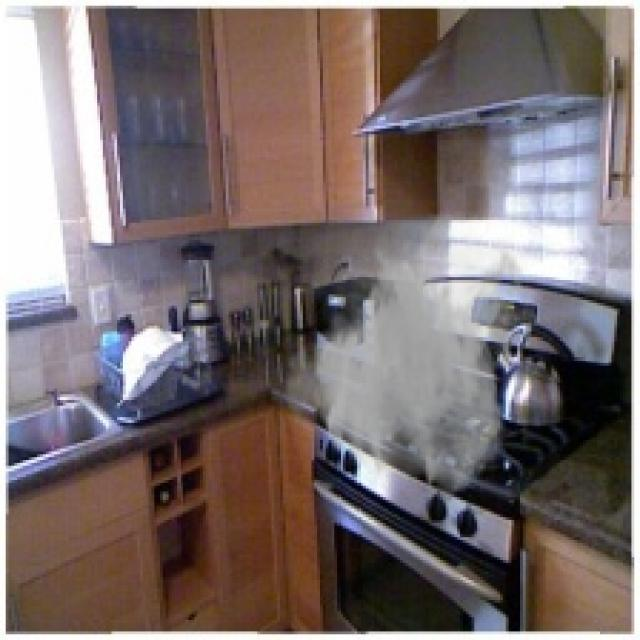smoke: (277, 220, 532, 500)
